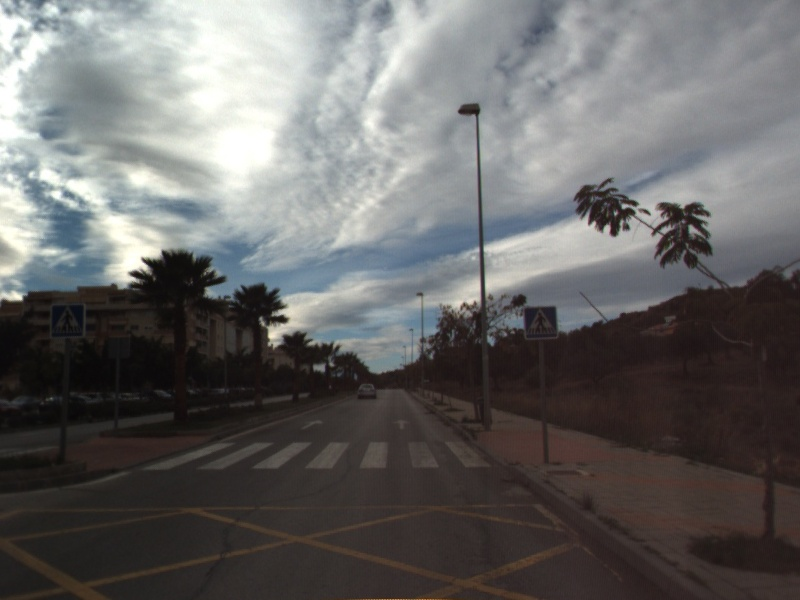STRAIGHT: (299, 418, 326, 432), (391, 417, 412, 431)
